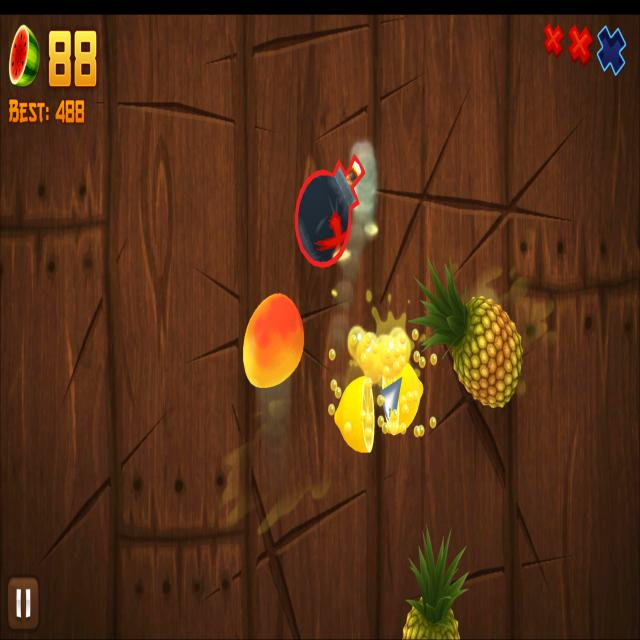bomb: (293, 154, 365, 268)
fruit: (453, 298, 523, 408), (243, 294, 304, 389), (403, 598, 460, 640)
